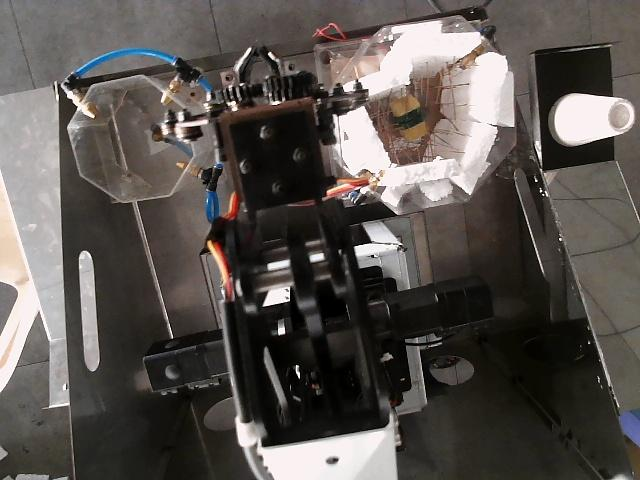cup: (549, 93, 634, 146)
